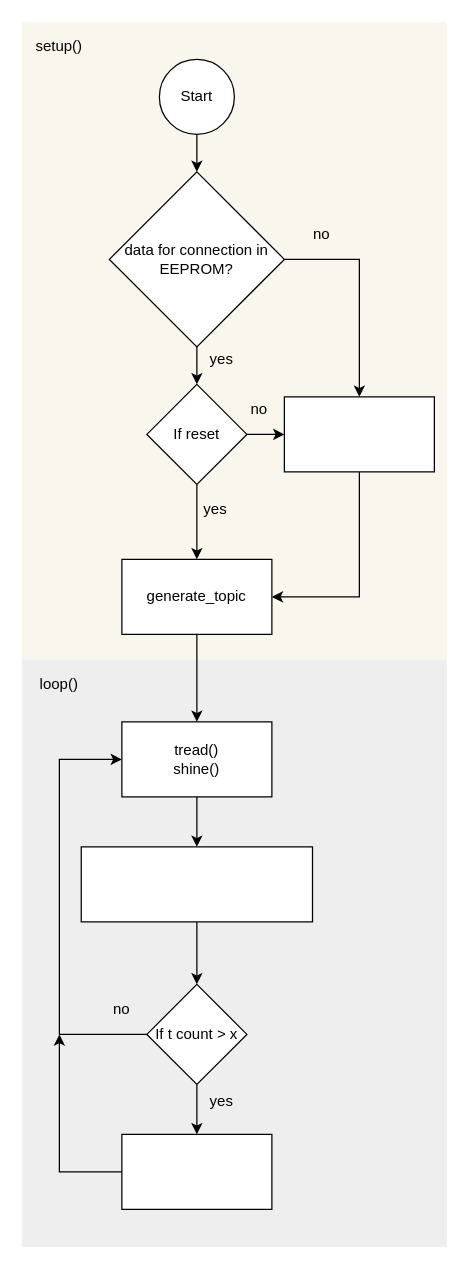
The diagram is 468 pixels wide and 1268 high, and some of its shapes have lost their labels. Here are the shapes that lost their labels. From the top down, the centre of each, then its label:
At point 358,434: "open AP".
At point 196,884: "this_time = clock() tcount += this_time -last_time".
At point 196,1171: "tempf()".
